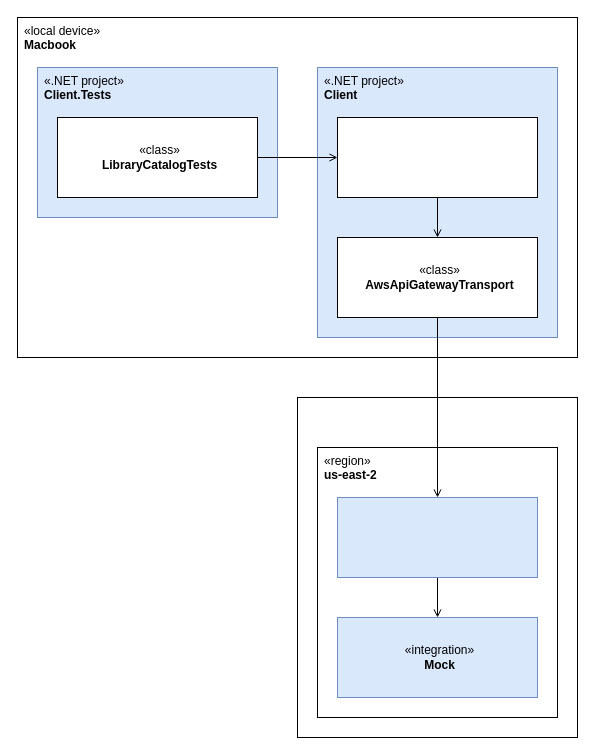
The diagram is 595 pixels wide and 755 high, and some of its shapes have lost their labels. Each missing label, with the box of its shape:
«class» LibraryCatalog: (336, 116, 538, 198)
«cloud vendor» AWS: (296, 396, 578, 738)
«managed service» API Gateway: (336, 496, 538, 578)
